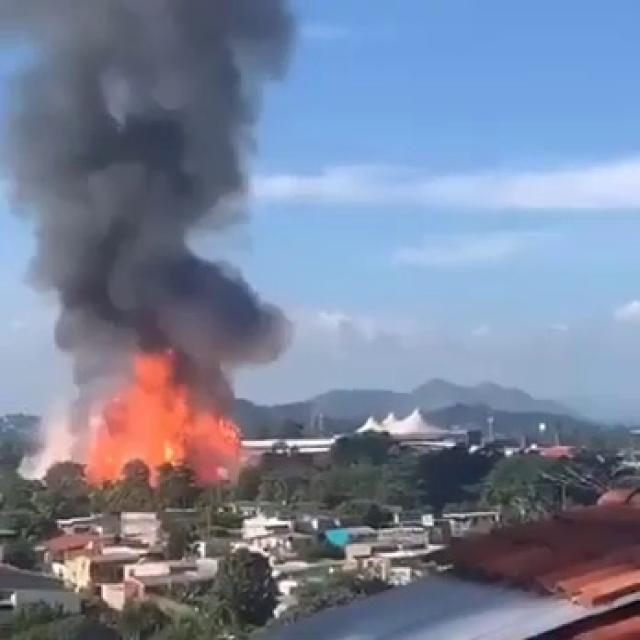Fire: (84, 375, 254, 491)
Smoke: (8, 6, 322, 368)
